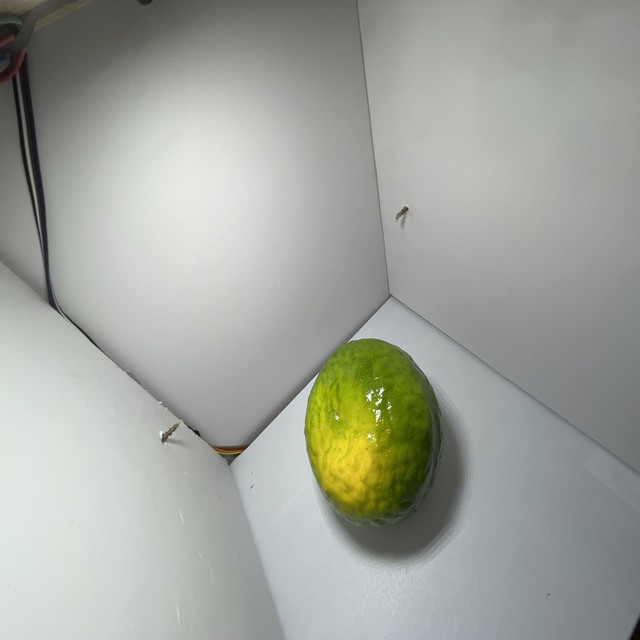Cam xanh: (296, 336, 443, 533)
